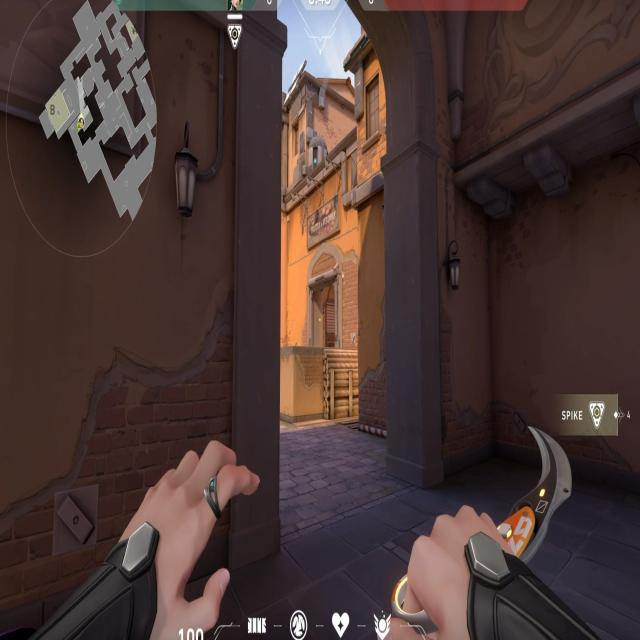B_Cubby: (290, 344, 360, 418)
